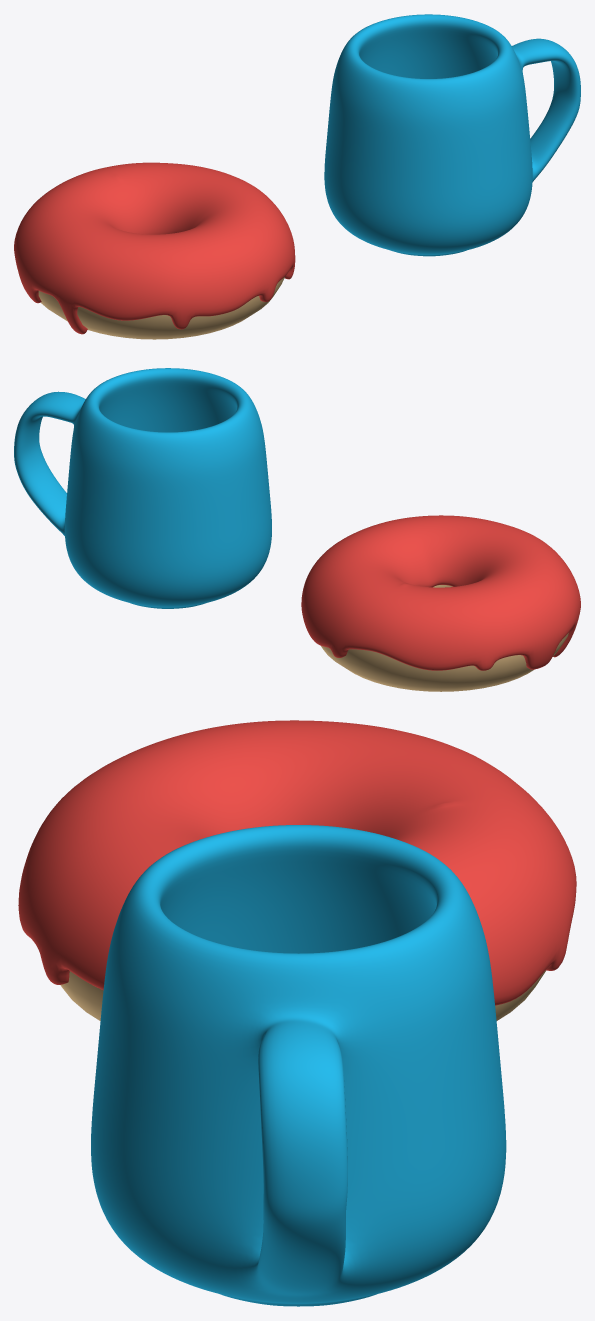
Rendered from Donut.glb.
The picture shows the model from 3 angles, top to bottom: view 1: azimuth 30°, elevation 25°; view 2: azimuth 150°, elevation 25°; view 3: azimuth 270°, elevation 25°; orthographic projection. The views are drawn at different scales.
Parts seen in each view (by area): view 1: Mug, Icing, Donut; view 2: Mug, Icing, Donut; view 3: Mug, Icing, Donut.
Part boxes in pixels (left/top/right/bottom): Mug: left=324, top=14, right=580, bottom=256; Icing: left=14, top=162, right=295, bottom=334; Donut: left=38, top=277, right=284, bottom=339; Mug: left=14, top=368, right=271, bottom=608; Icing: left=301, top=515, right=580, bottom=670; Donut: left=321, top=585, right=568, bottom=691; Mug: left=91, top=825, right=506, bottom=1306; Icing: left=18, top=720, right=576, bottom=1005; Donut: left=60, top=970, right=546, bottom=1020.
Bounding box in the file's own units: 0.7329 × 0.2401 × 0.3272.
